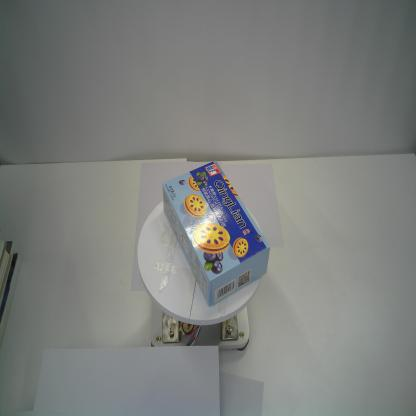Dessert: (162, 159, 272, 308)
